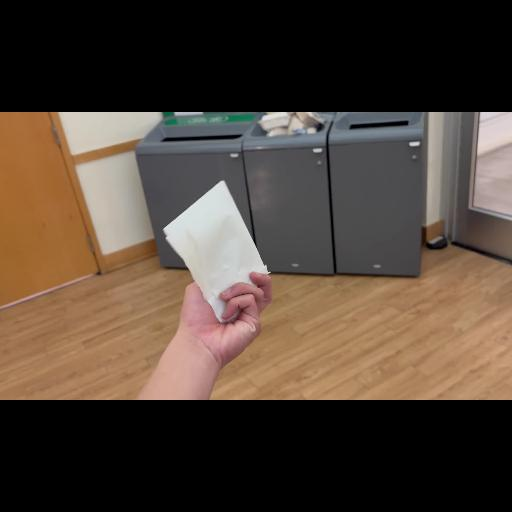napkin: (162, 176, 270, 322)
